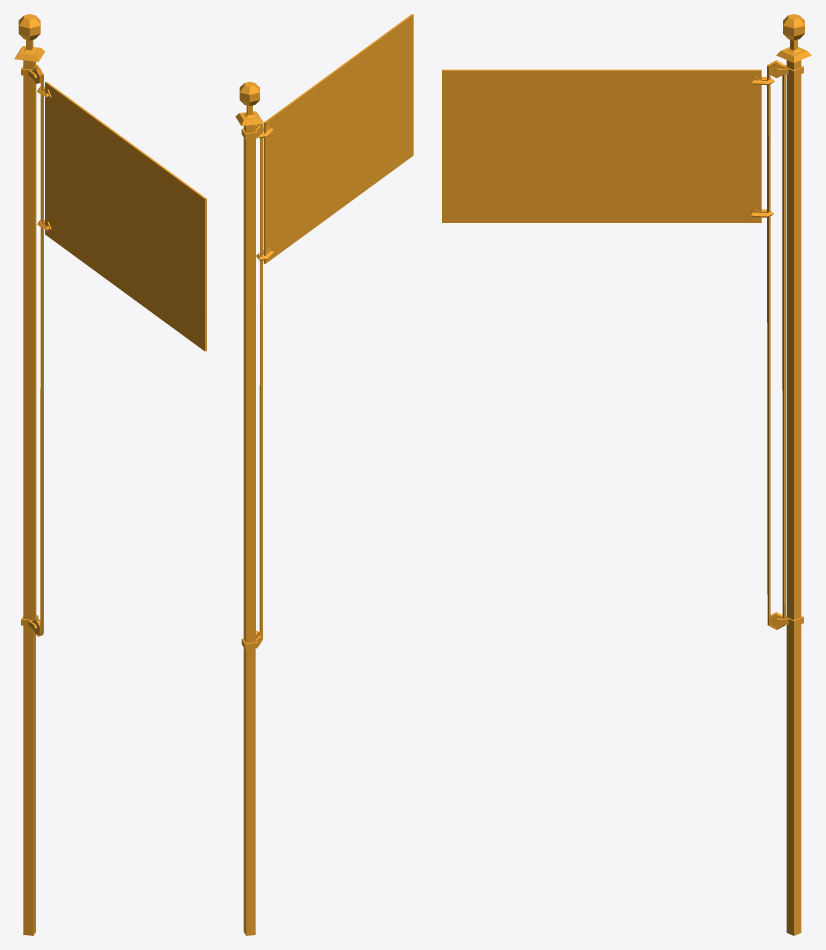
Rendered from SM_Flag_Ground_American_Flat.fbx.
The picture shows the model from 3 angles, left to right: view 1: azimuth 30°, elevation 25°; view 2: azimuth 150°, elevation 25°; view 3: azimuth 270°, elevation 25°; orthographic projection. The views are drawn at different scales.
Parts seen in each view (by area): view 1: flag-ground-american-flat; view 2: flag-ground-american-flat; view 3: flag-ground-american-flat.
Part boxes in pixels (x1,y1,x2,y2): flag-ground-american-flat: (14,14,206,935); flag-ground-american-flat: (235,14,413,935); flag-ground-american-flat: (442,14,811,935).
Bounding box in the file's own units: 0.3345 × 9.42 × 3.45.
